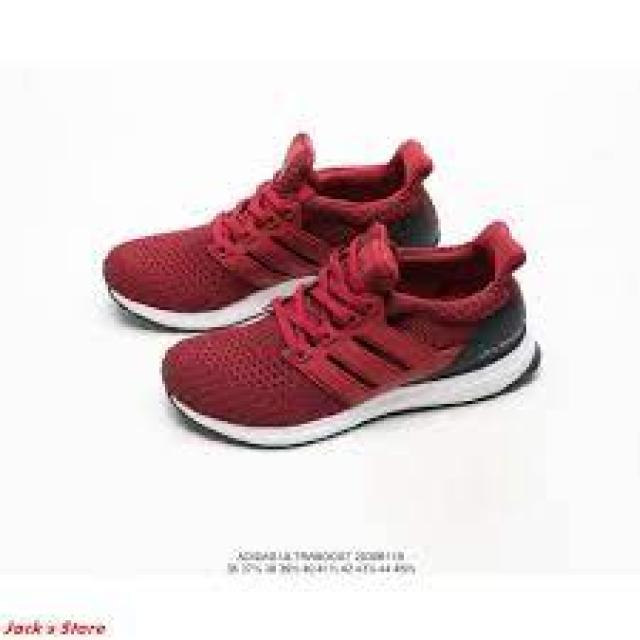shoe: (160, 223, 560, 451), (98, 128, 440, 327)
